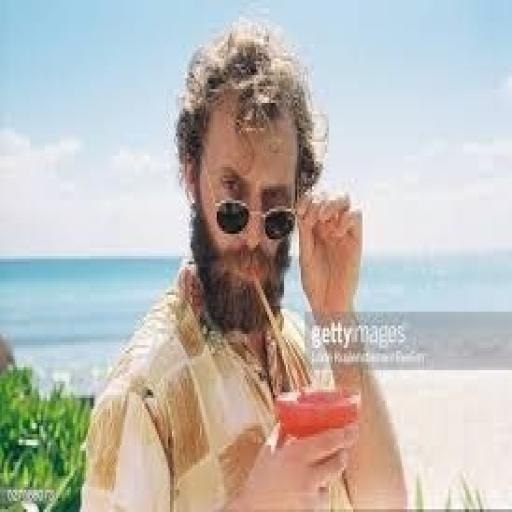drinking: (77, 20, 409, 509), (272, 384, 360, 440)
